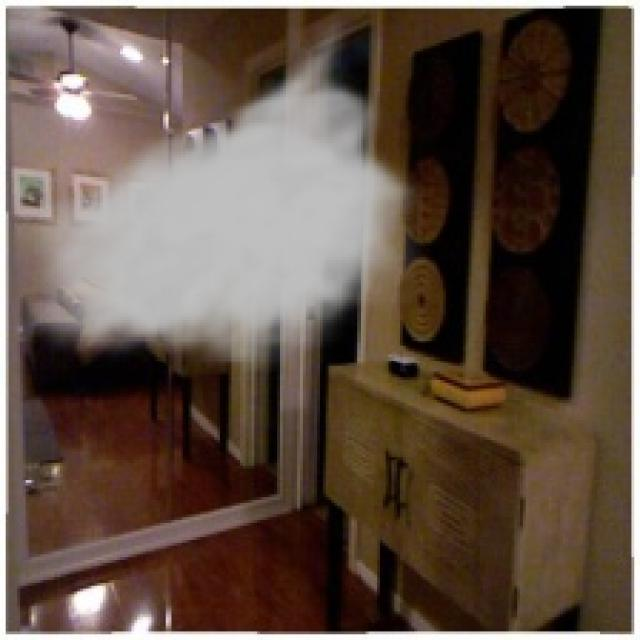Smoke: (11, 14, 428, 372)
